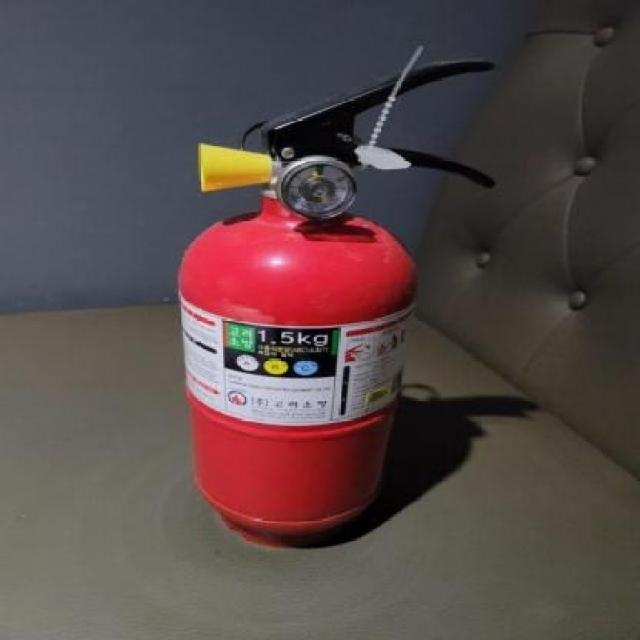fire extinguisher: (176, 58, 498, 550)
